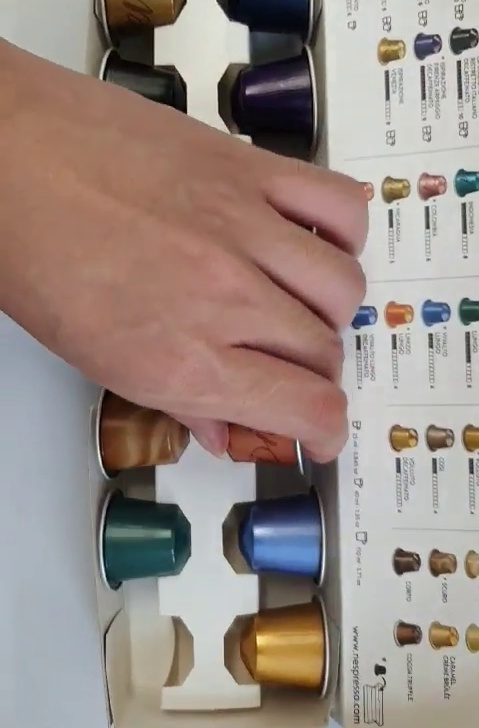capsule_6: (217, 384, 314, 478)
